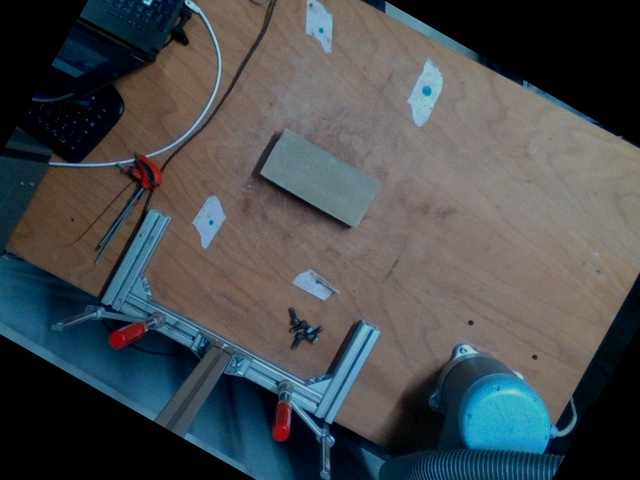brick: (261, 130, 380, 226)
